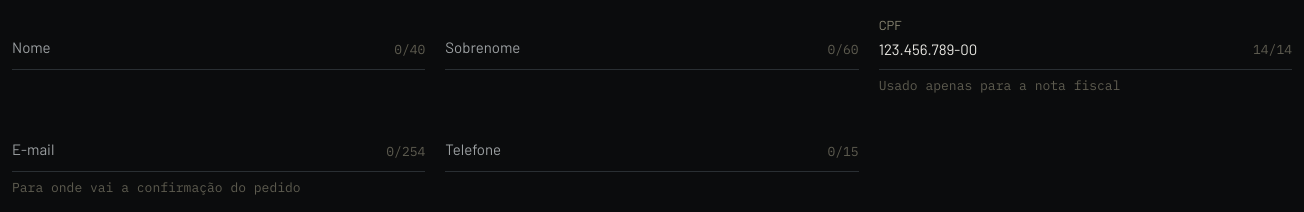
Test case: PersonalStep › exibe a mensagem do validador para CPF inválido
Click the field labelled "CPF" at (1085, 43), box [879,16,1292,70]
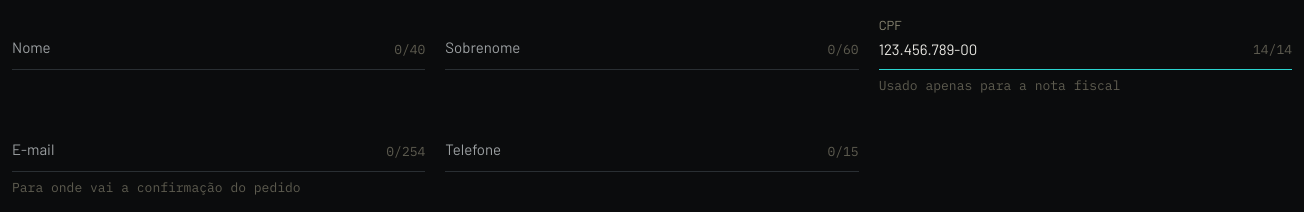
Press Tab
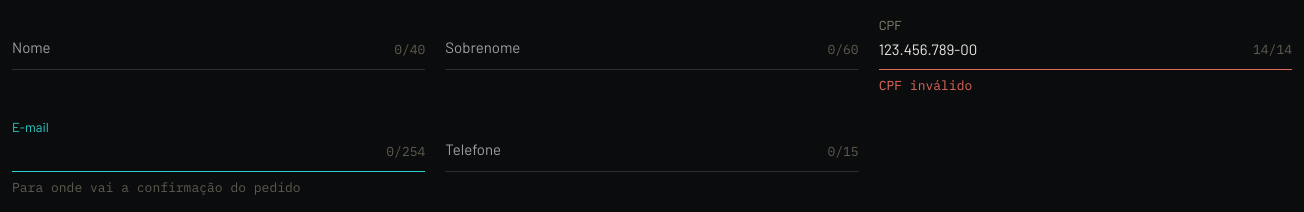
Expected: the text "CPF inválido" is shown, [879,77,972,94]
